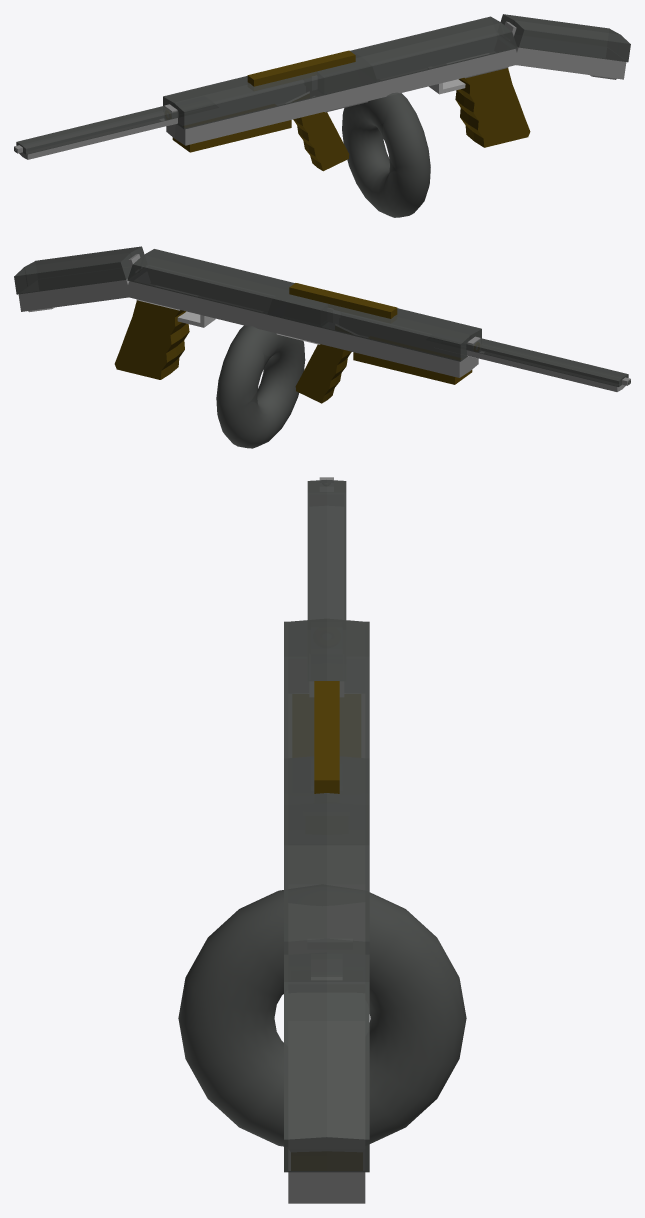
File: tommygun.fbx
The picture shows the model from 3 angles, top to bottom: view 1: azimuth 30°, elevation 25°; view 2: azimuth 150°, elevation 25°; view 3: azimuth 270°, elevation 25°; orthographic projection. The views are drawn at different scales.
Parts seen in each view (by area): view 1: polySurface19; view 2: polySurface19; view 3: polySurface19.
Boxes of the visible parts, x1,y1,x2,y2 form: polySurface19: [14, 14, 630, 217]; polySurface19: [14, 246, 630, 448]; polySurface19: [178, 477, 466, 1203].
Size of the model in its own units: 515 by 136 by 106.
